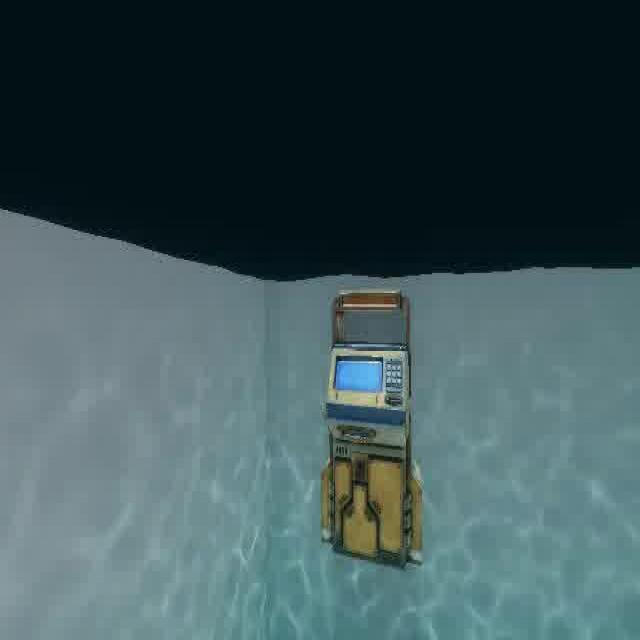Control Panel: (313, 283, 440, 582)
